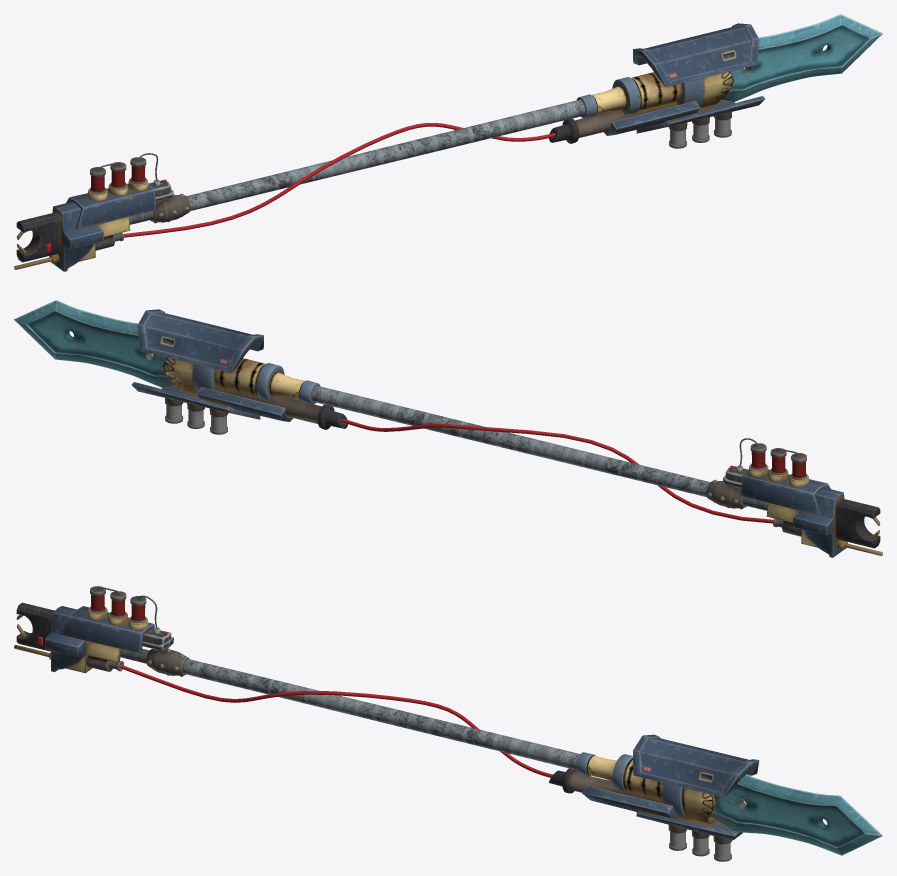
The model's file is Brutal Weapon - Spear.fbx.
3 views of the same model, one above another, from view 1: azimuth 30°, elevation 25°; view 2: azimuth 150°, elevation 25°; view 3: azimuth 330°, elevation 25° (orthographic).
Visible parts, largest first — view 1: Brutal Weapon-Futuristic_Spear; view 2: Brutal Weapon-Futuristic_Spear; view 3: Brutal Weapon-Futuristic_Spear.
Part boxes in pixels (x1,y1,x2,y2): Brutal Weapon-Futuristic_Spear: (14,14,882,271); Brutal Weapon-Futuristic_Spear: (14,300,882,557); Brutal Weapon-Futuristic_Spear: (14,586,882,861).
Size of the model in its own units: 521 by 69.82 by 35.93.
